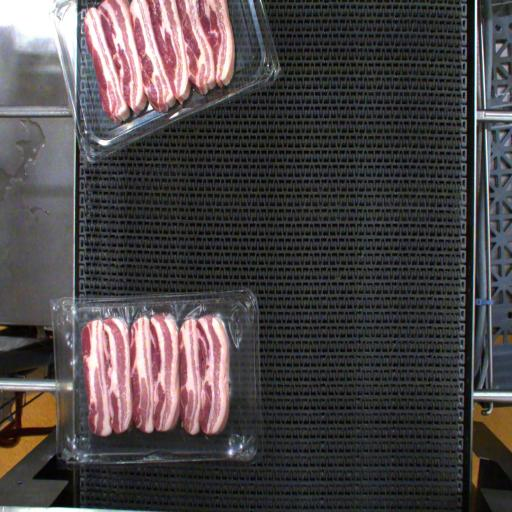unsealed: (62, 303, 257, 392)
